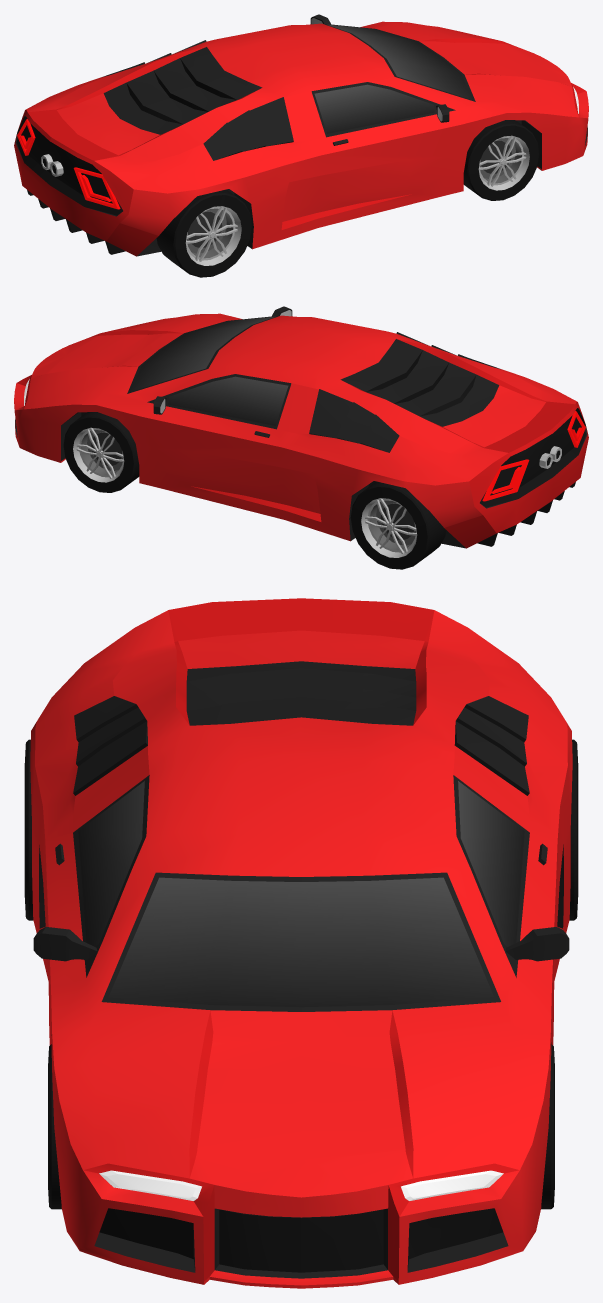
File: Car_174.glb
3 views of the same model, one above another, from view 1: azimuth 30°, elevation 25°; view 2: azimuth 150°, elevation 25°; view 3: azimuth 270°, elevation 25° (orthographic). The views are drawn at different scales.
Visible parts, largest first — view 1: Car_174, wheel_3_Car_174_Wheel_2R, wheel_1_Car_174_Wheel_1R; view 2: Car_174, wheel_2_Car_174_Wheel_2L, wheel_0_Car_174_Wheel_1L; view 3: Car_174, wheel_2_Car_174_Wheel_2L, wheel_3_Car_174_Wheel_2R, wheel_0_Car_174_Wheel_1L, wheel_1_Car_174_Wheel_1R.
Part boxes in pixels (bbox=[...]): Car_174: bbox=[14, 14, 588, 256]; wheel_3_Car_174_Wheel_2R: bbox=[156, 189, 252, 277]; wheel_1_Car_174_Wheel_1R: bbox=[463, 120, 539, 200]; Car_174: bbox=[14, 306, 588, 548]; wheel_2_Car_174_Wheel_2L: bbox=[350, 481, 446, 569]; wheel_0_Car_174_Wheel_1L: bbox=[63, 412, 139, 492]; Car_174: bbox=[30, 598, 572, 1288]; wheel_2_Car_174_Wheel_2L: bbox=[569, 739, 578, 920]; wheel_3_Car_174_Wheel_2R: bbox=[24, 739, 33, 920]; wheel_0_Car_174_Wheel_1L: bbox=[541, 1044, 554, 1209]; wheel_1_Car_174_Wheel_1R: bbox=[48, 1044, 61, 1209].
Bounding box in the file's own units: 4.48 × 1.16 × 2.08.
Materials: 3 (3 with a texture image).
